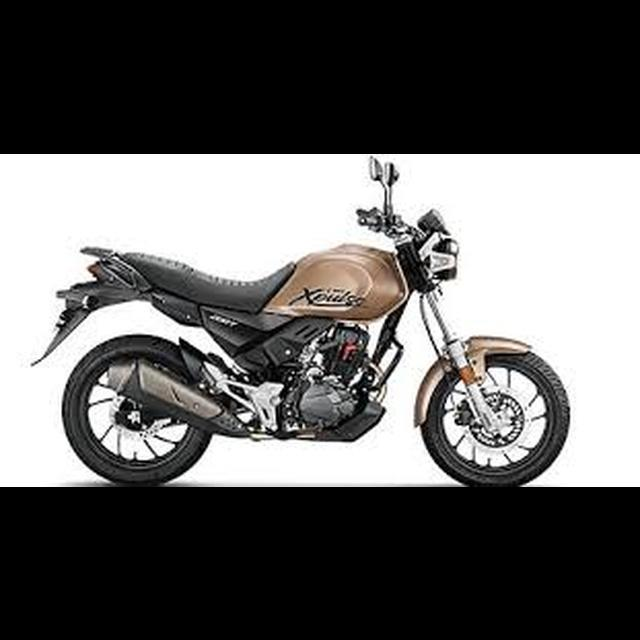motorcycle: (25, 153, 572, 488)
